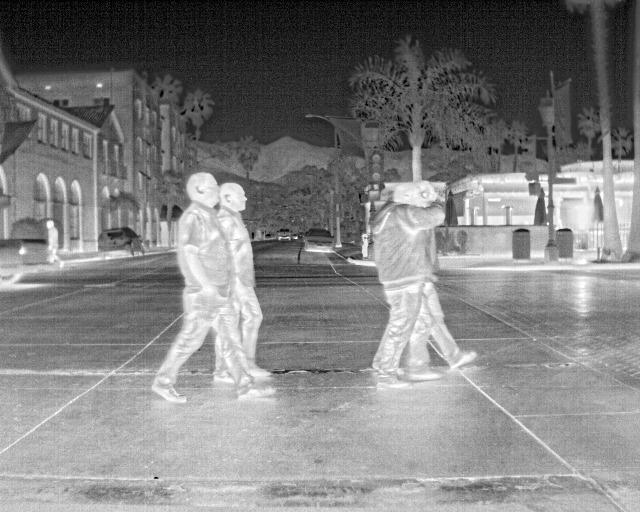bicycle: (0, 239, 49, 288), (96, 226, 146, 259), (303, 225, 336, 255), (274, 227, 294, 244)
empty: (153, 173, 280, 405), (367, 178, 449, 387), (216, 181, 269, 374), (44, 218, 62, 268)
